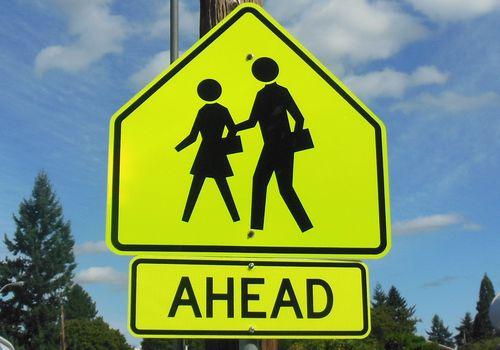slow: (106, 4, 393, 260)
